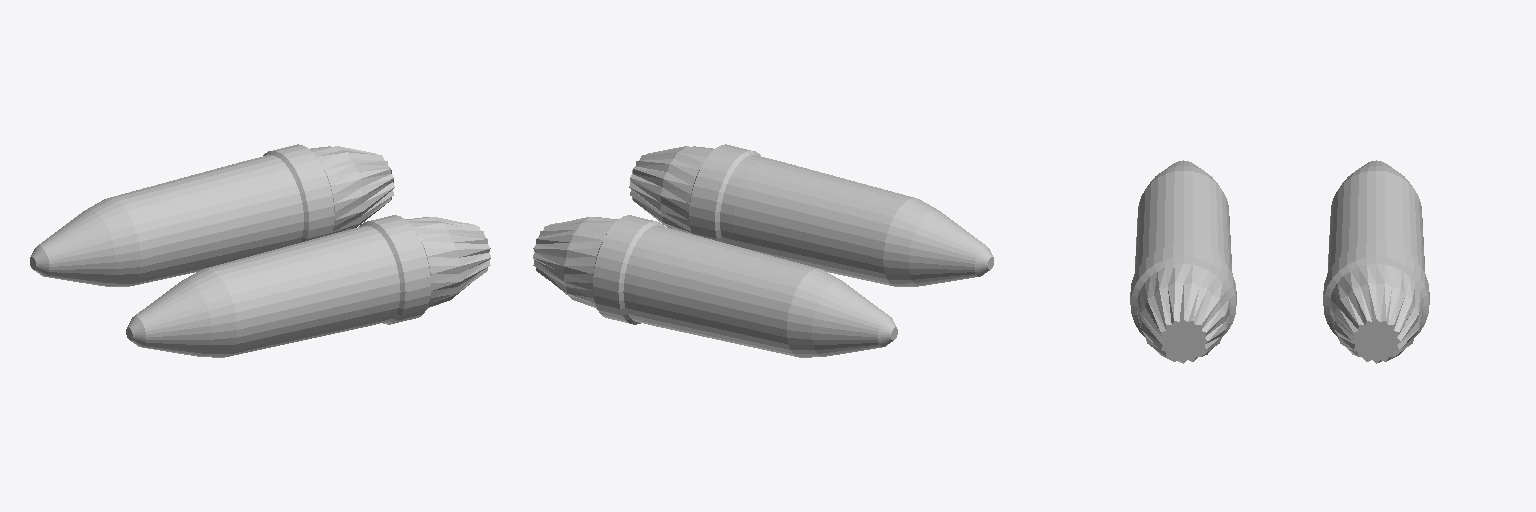
The model's file is engine.obj.
The picture shows the model from 3 angles: view 1: azimuth 30°, elevation 25°; view 2: azimuth 150°, elevation 25°; view 3: azimuth 270°, elevation 25°; orthographic projection.
Parts seen in each view (by area): view 1: Cylinder; view 2: Cylinder; view 3: Cylinder.
Boxes of the visible parts, <box> form: Cylinder: <box>30,144,490,357</box>; Cylinder: <box>533,144,993,357</box>; Cylinder: <box>1130,160,1429,363</box>.
Bounding box in the file's own units: 0.833 × 0.219 × 0.6169.